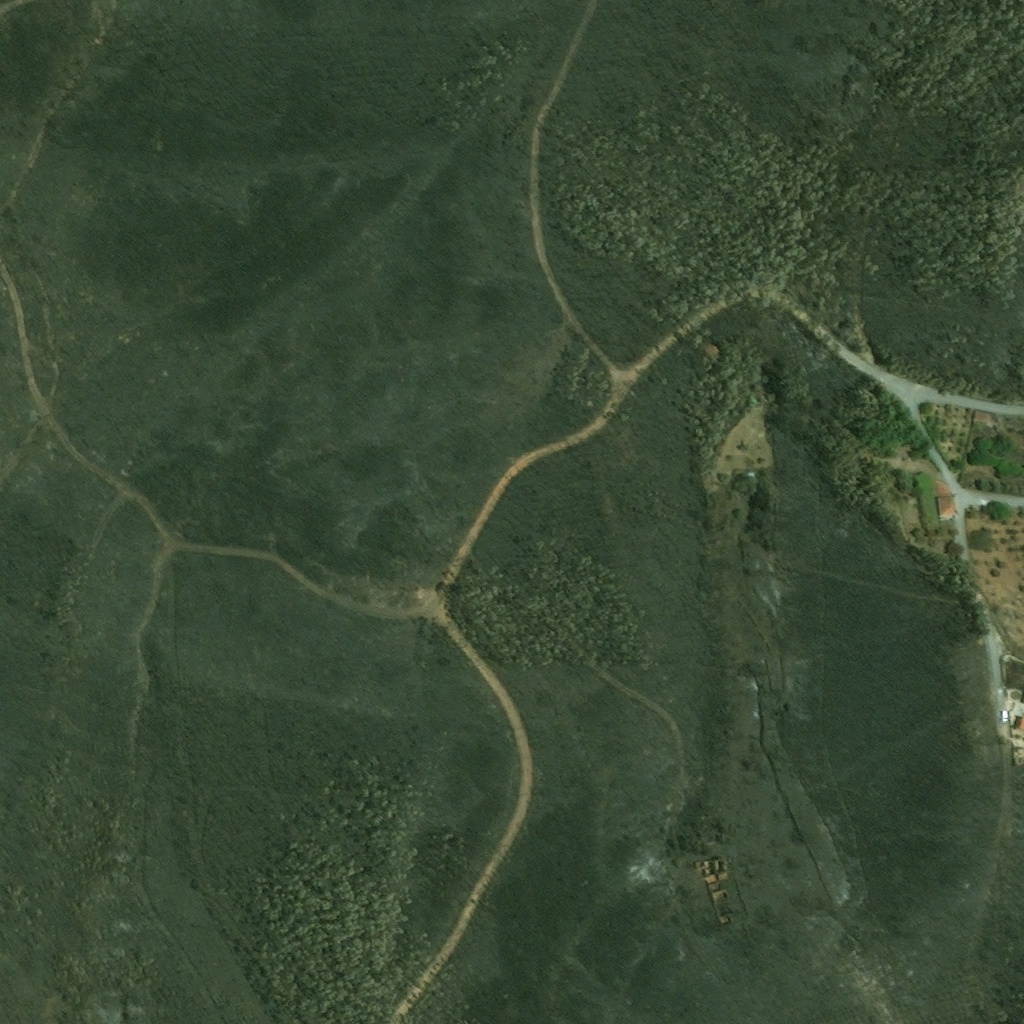0 no-damage: (938, 494, 958, 515), (974, 410, 990, 422)
3 destroyed: (701, 856, 735, 887), (703, 340, 724, 362), (743, 469, 756, 480)
4 un-classified: (1016, 715, 1023, 729)
